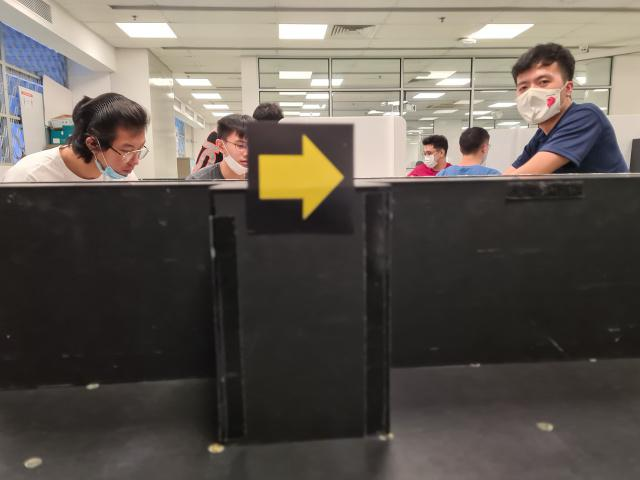right_arrow: (247, 123, 355, 232)
